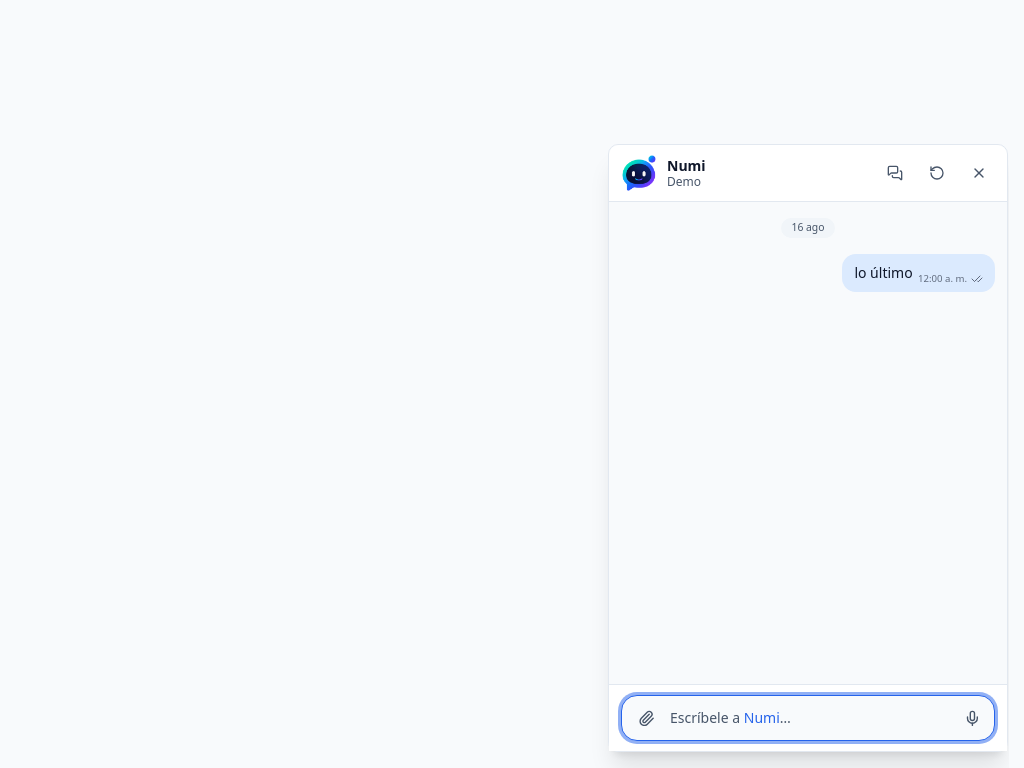
abrir un resultado lleva la conversación a ese mensaje, no al final
Click the button named "Ver mis conversaciones" at (895, 173), box x1=879 y1=157 x2=911 y2=189
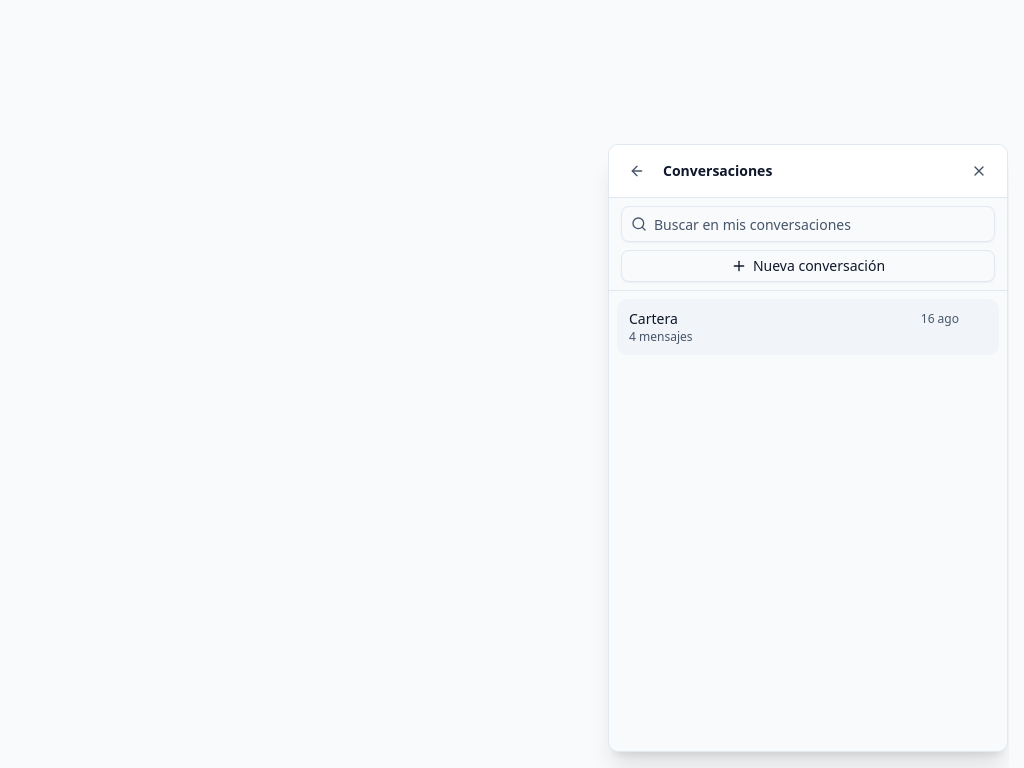
Type "Ana" into the search field labelled "Buscar en mis conversaciones" at (808, 224), box x1=621 y1=206 x2=995 y2=242
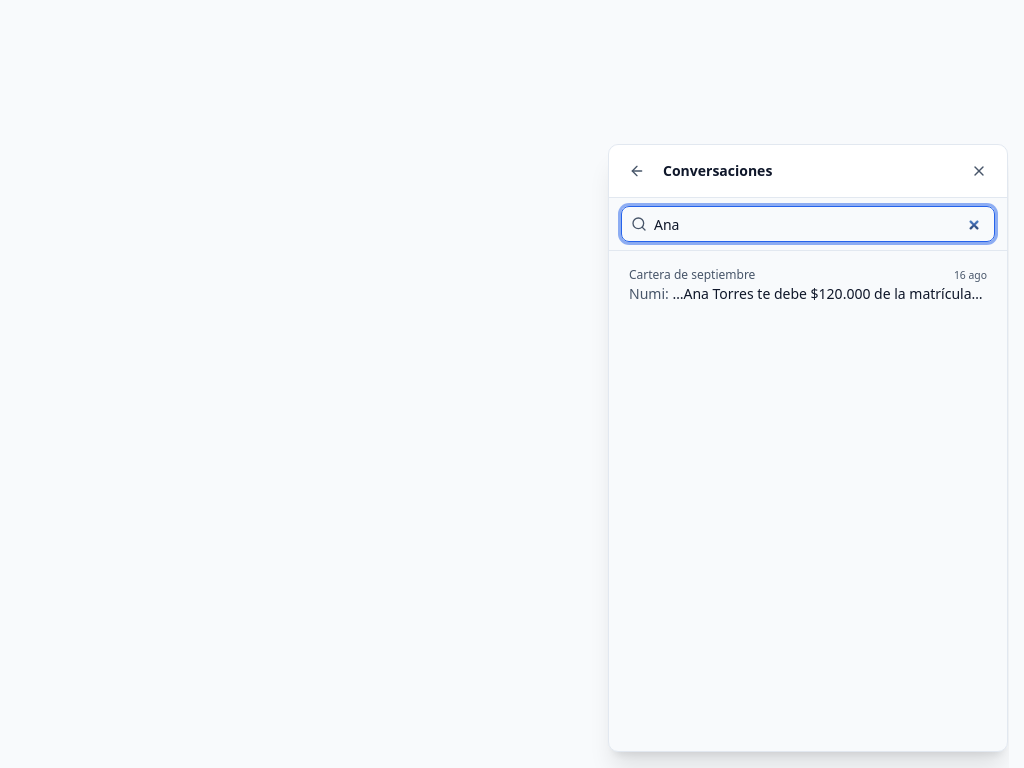
Click the text "Numi: …Ana Torres te debe $120.000 de la matrícula…" at (808, 294), box x1=629 y1=284 x2=987 y2=304
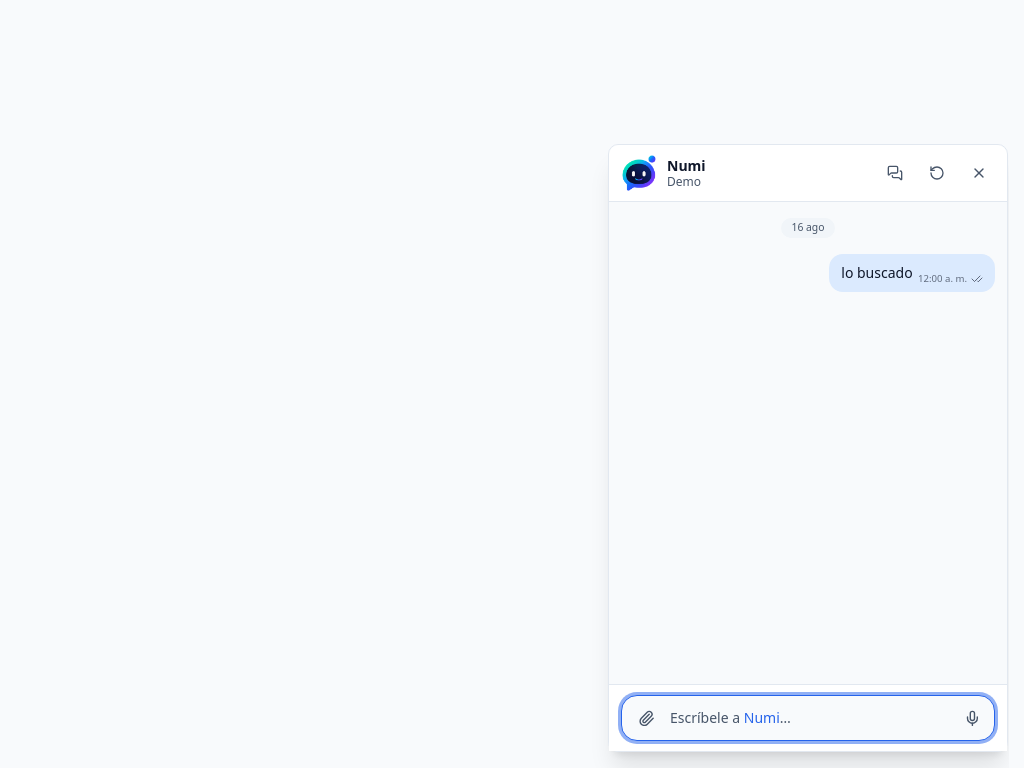
Check: the text "lo buscado" is shown, box x1=841 y1=263 x2=913 y2=282
